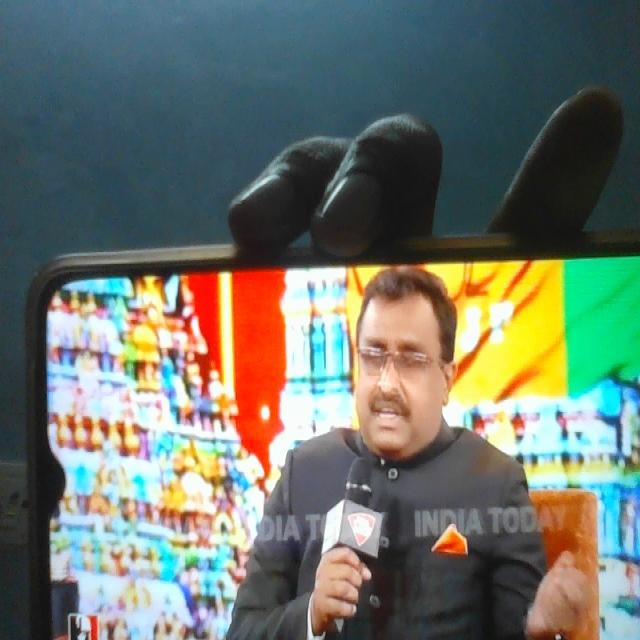fake: (335, 232, 462, 472)
